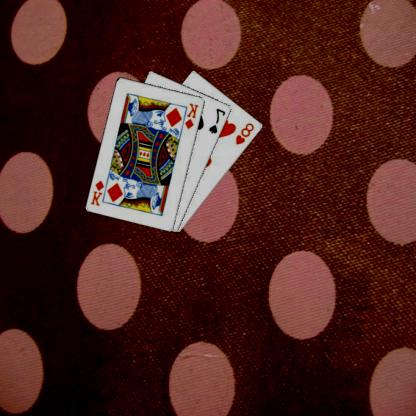7S: (208, 105, 229, 135)
8H: (235, 120, 257, 146)
KD: (184, 101, 202, 130), (90, 177, 107, 207)
